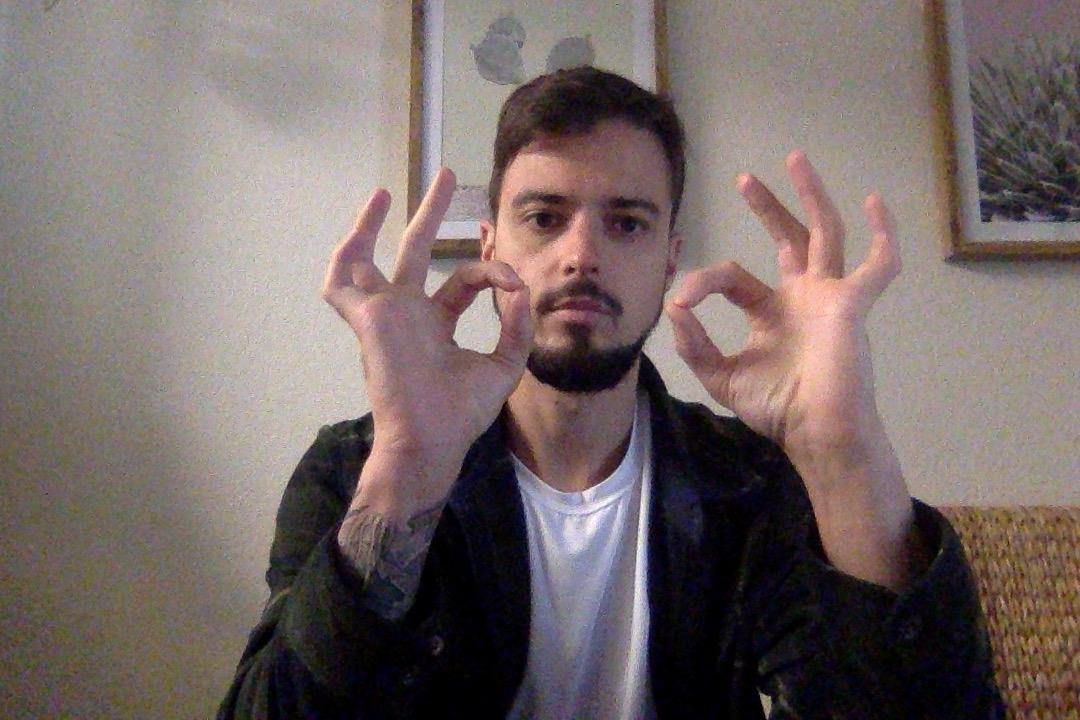Okay: (665, 164, 907, 461), (336, 163, 547, 473)
